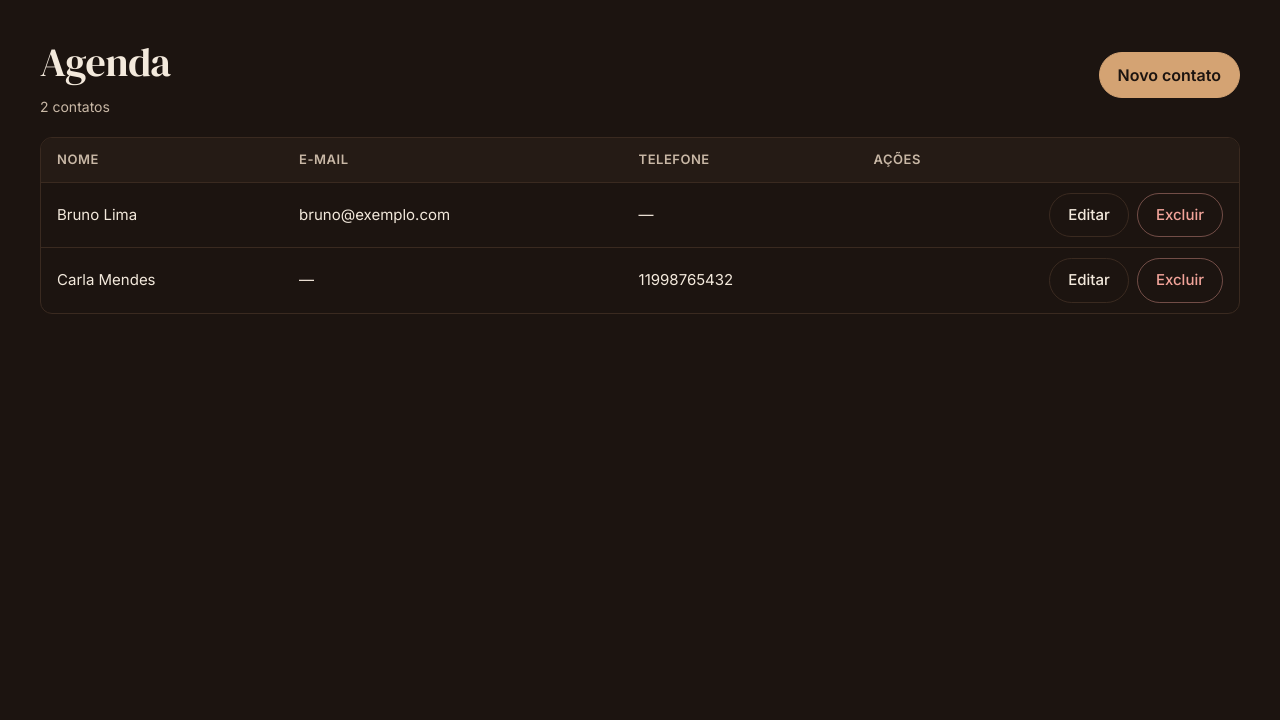
Test case: ContactsPage › ContactsPage_Delete_AsksInAppAndRemoves
The image size is (1280, 720).
Click the button with aria-label "Excluir Bruno Lima".
click(1180, 215)  # box [1137,192,1223,237]
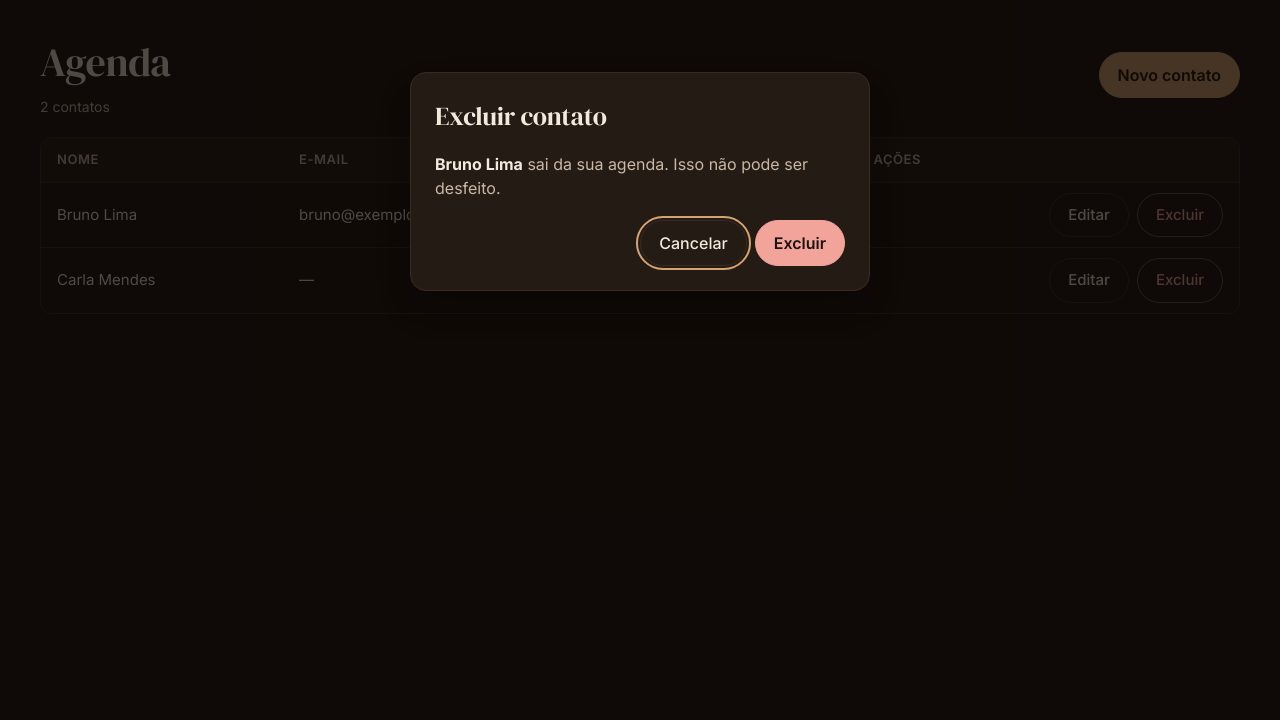
Now the dialog "Excluir contato" shows "Bruno Lima", box [435,154,523,174]
Click the button "Excluir".
click(800, 243)  # box [755,220,845,266]
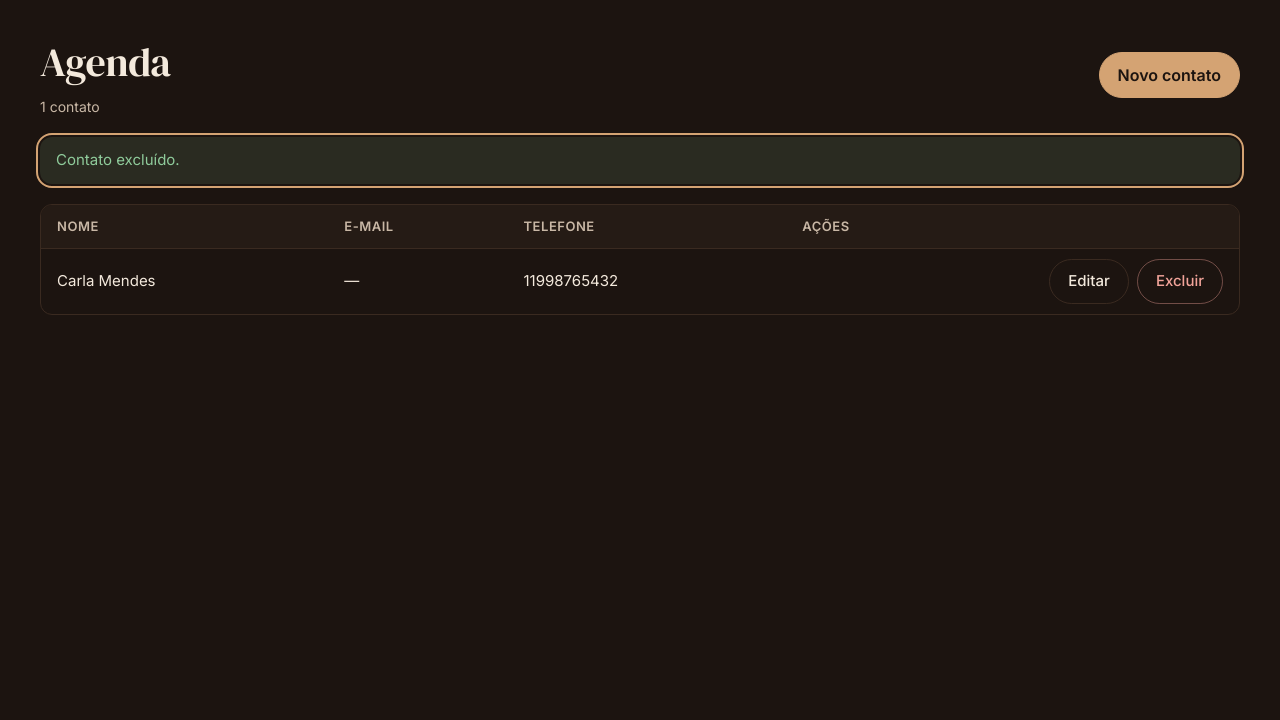
Now the message reads "Contato excluído.", box [56,150,180,169]
Now the dialog is gone
Now the text "Bruno Lima" is gone
